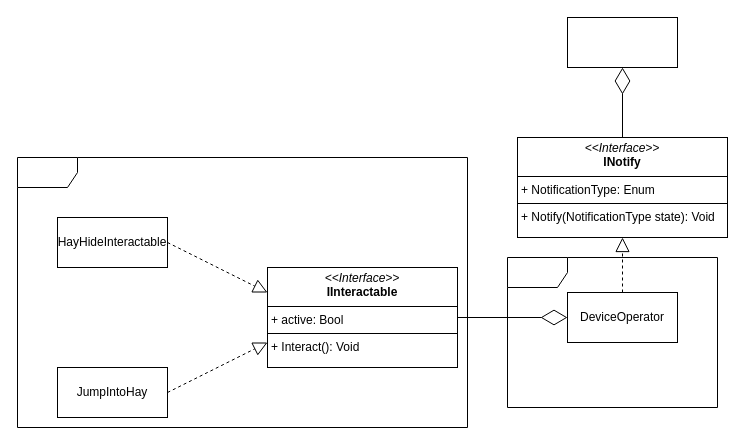
Image size: 745x445. Some labels were removed from this diagram. Each missing label, with the centre of its shape:
GameManager: the point at 622,42
Object: the point at 242,292
Player: the point at 612,332
